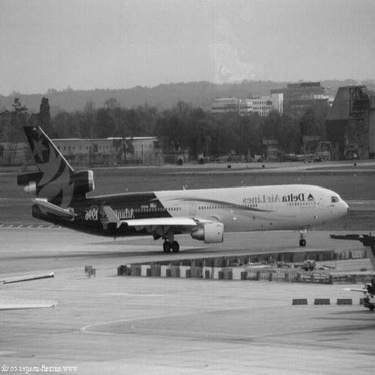airplane: (4, 93, 363, 273), (321, 215, 374, 316)
